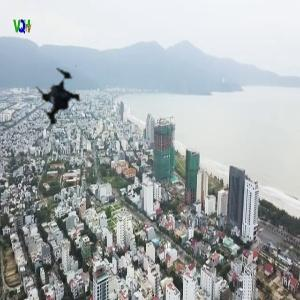drone: (23, 60, 110, 147)
